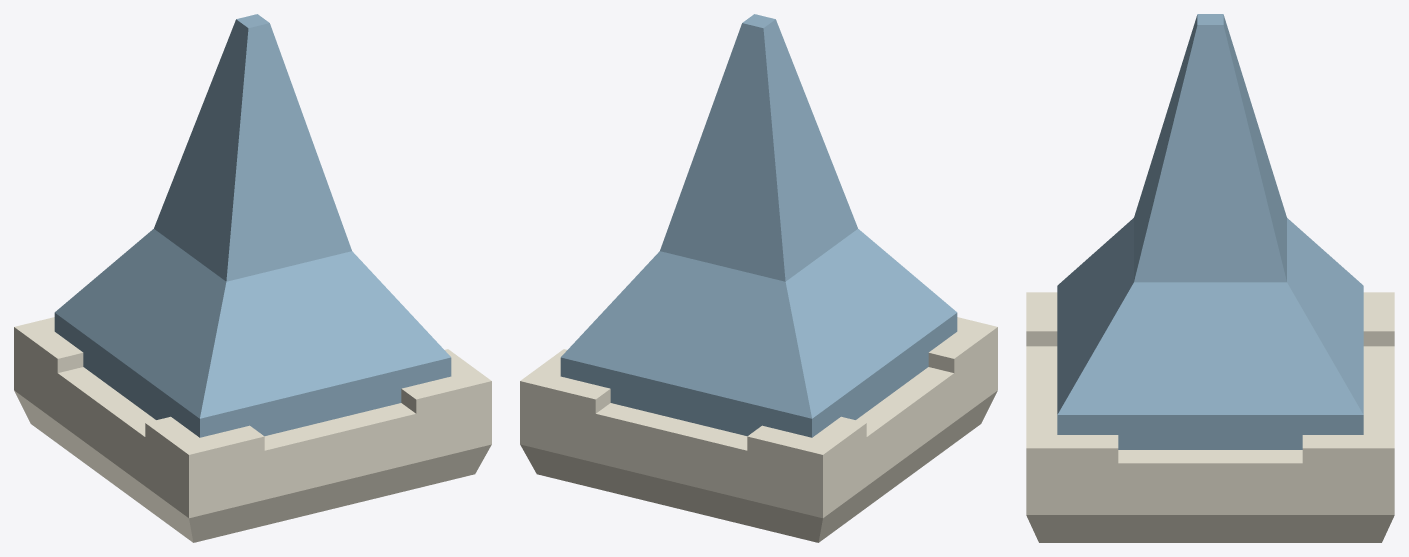
File: towerSquareTopRoofHigh.glb
The picture shows the model from 3 angles, left to right: view 1: azimuth 30°, elevation 25°; view 2: azimuth 150°, elevation 25°; view 3: azimuth 270°, elevation 25°; orthographic projection. The views are drawn at different scales.
Parts seen in each view (by area): view 1: towerSquareTopRoofHigh; view 2: towerSquareTopRoofHigh; view 3: towerSquareTopRoofHigh.
Part boxes in pixels (x1=…): towerSquareTopRoofHigh: x1=14, y1=14, x2=491, y2=542; towerSquareTopRoofHigh: x1=520, y1=14, x2=997, y2=542; towerSquareTopRoofHigh: x1=1026, y1=14, x2=1394, y2=542.
Bounding box in the file's own units: 10 × 13.5 × 10.
